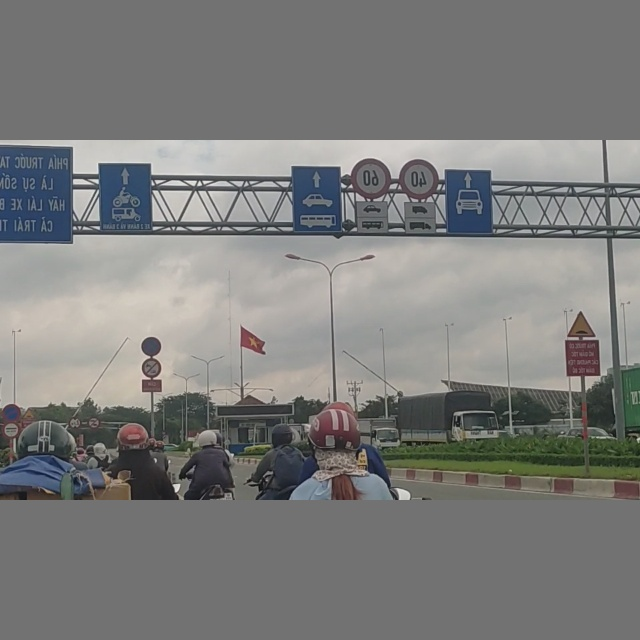P.107: (69, 417, 82, 429), (88, 417, 101, 428)
P.111: (142, 359, 161, 378)
P.127*40: (399, 159, 438, 200)
P.127*60: (351, 159, 391, 199)
P.129: (3, 422, 19, 439)
P.130: (141, 336, 161, 356)
P.131a: (1, 405, 20, 422)
W.221b: (567, 310, 596, 338), (21, 408, 37, 419)
